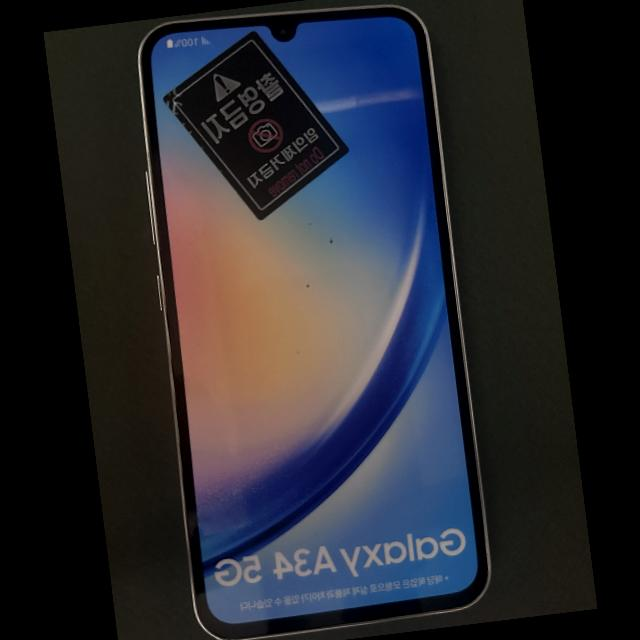lens: (279, 27, 287, 35)
phone: (138, 5, 489, 640)
sticker: (162, 31, 348, 221)
